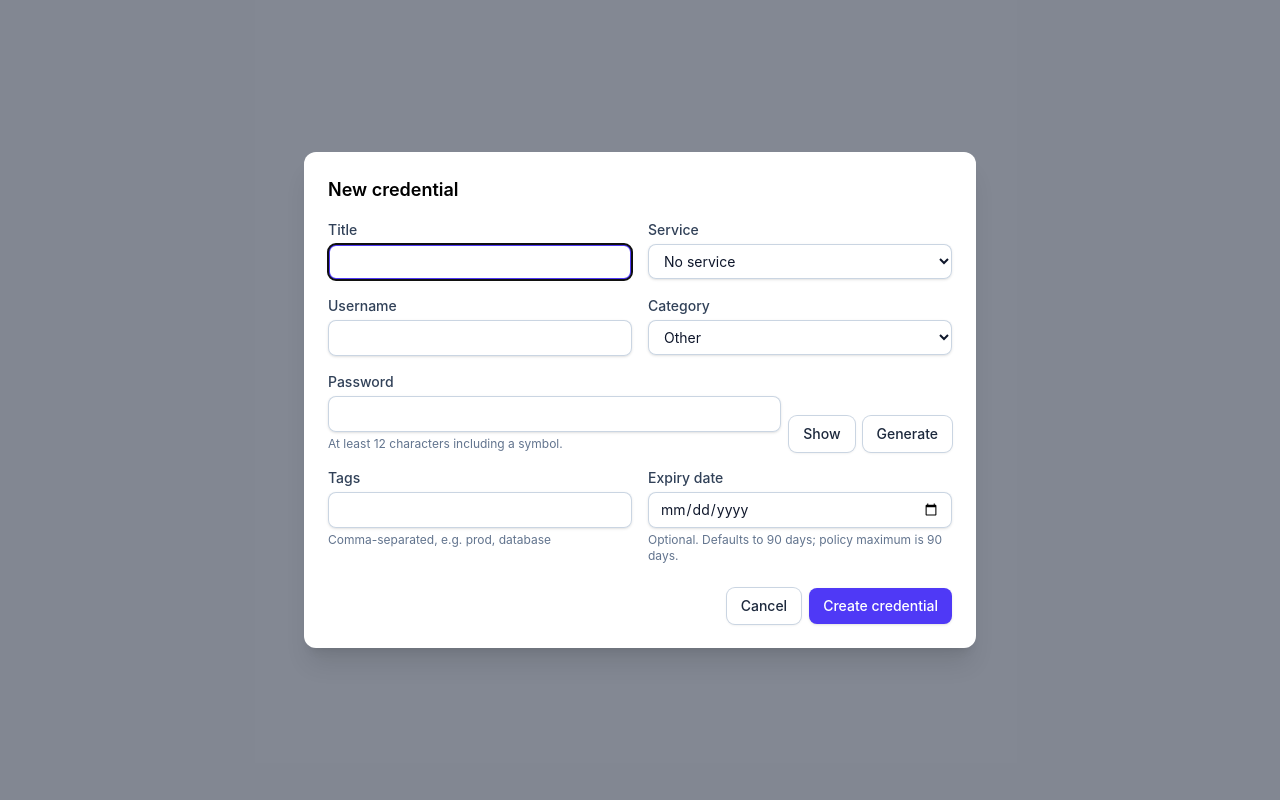
Test case: CredentialFormModal (create) › shows server-side field errors next to the fields and keeps the form open
The image size is (1280, 800).
Type "x" into the field labelled "Title" at (480, 262), box x1=328 y1=244 x2=632 y2=280
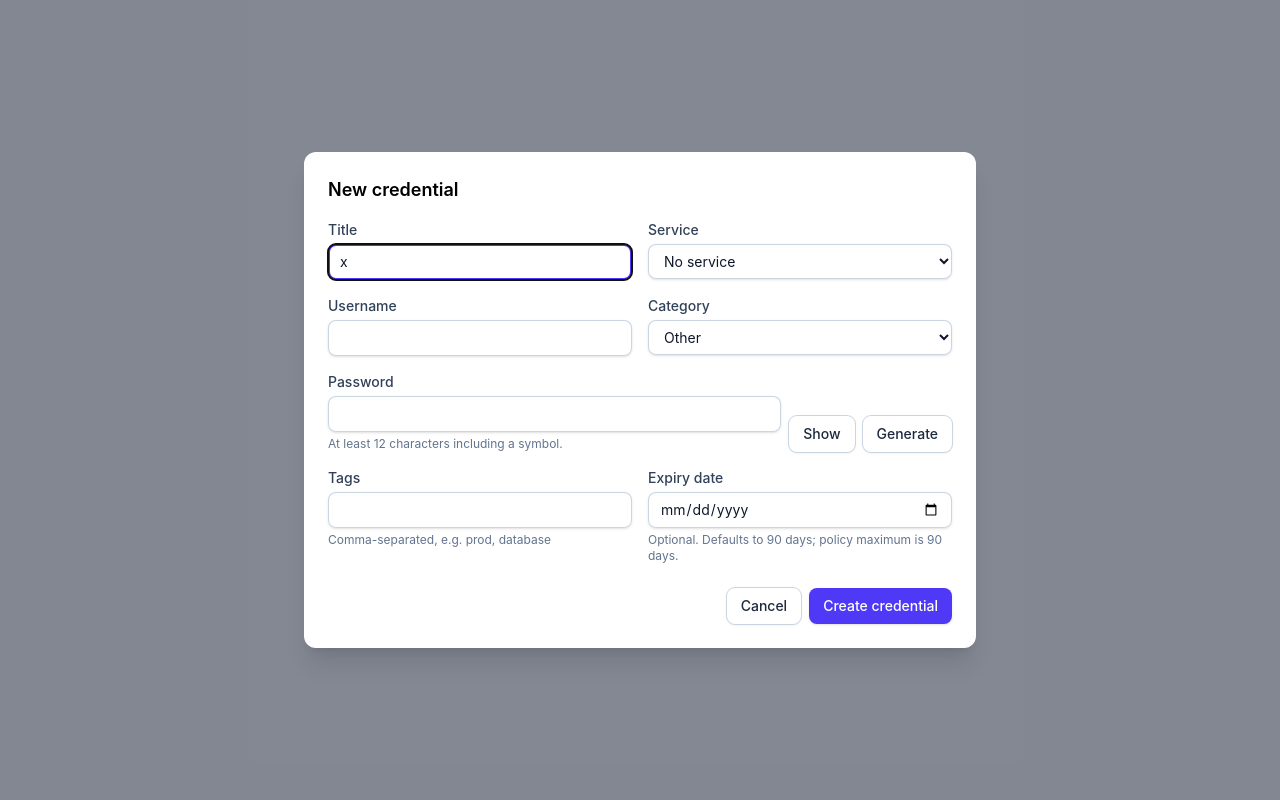
Type "short" into the password field labelled "Password" at (555, 414), box x1=328 y1=396 x2=781 y2=432
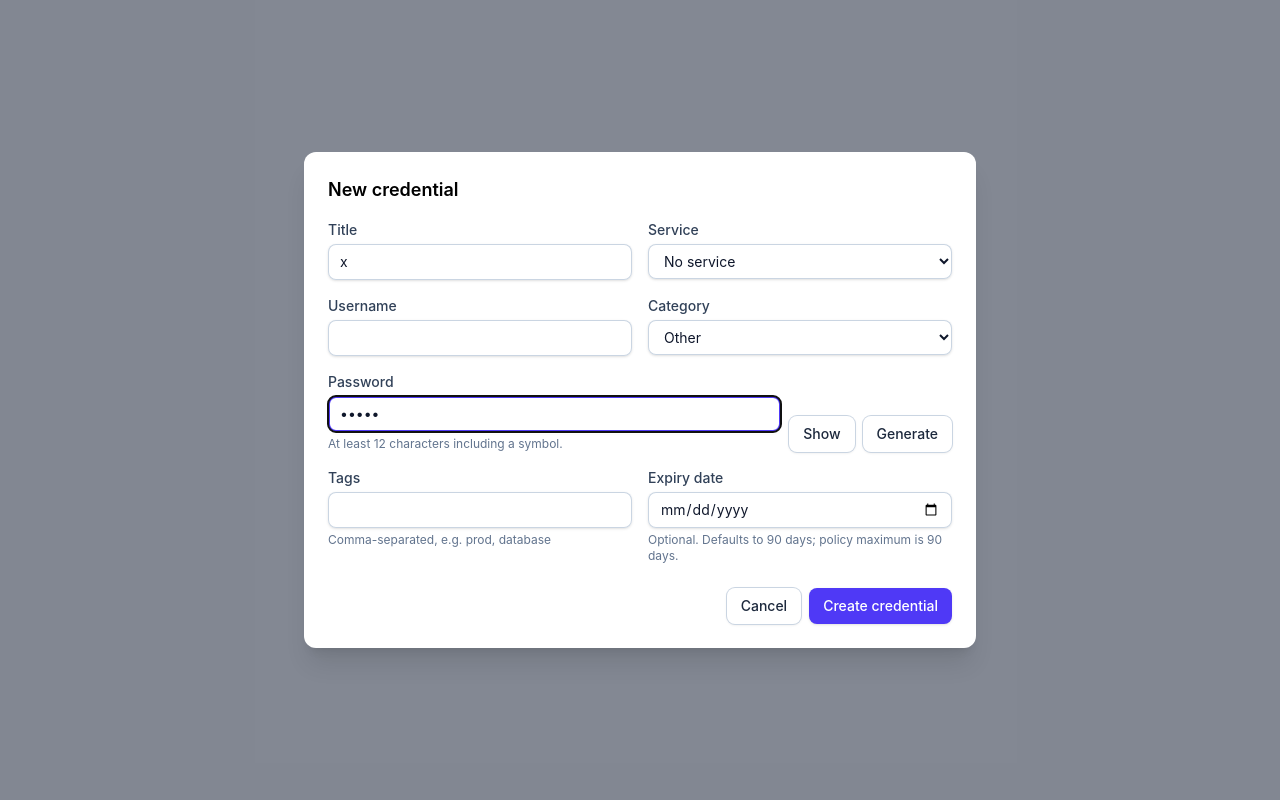
Click the button "Create credential" at (881, 606), box x1=809 y1=588 x2=952 y2=624
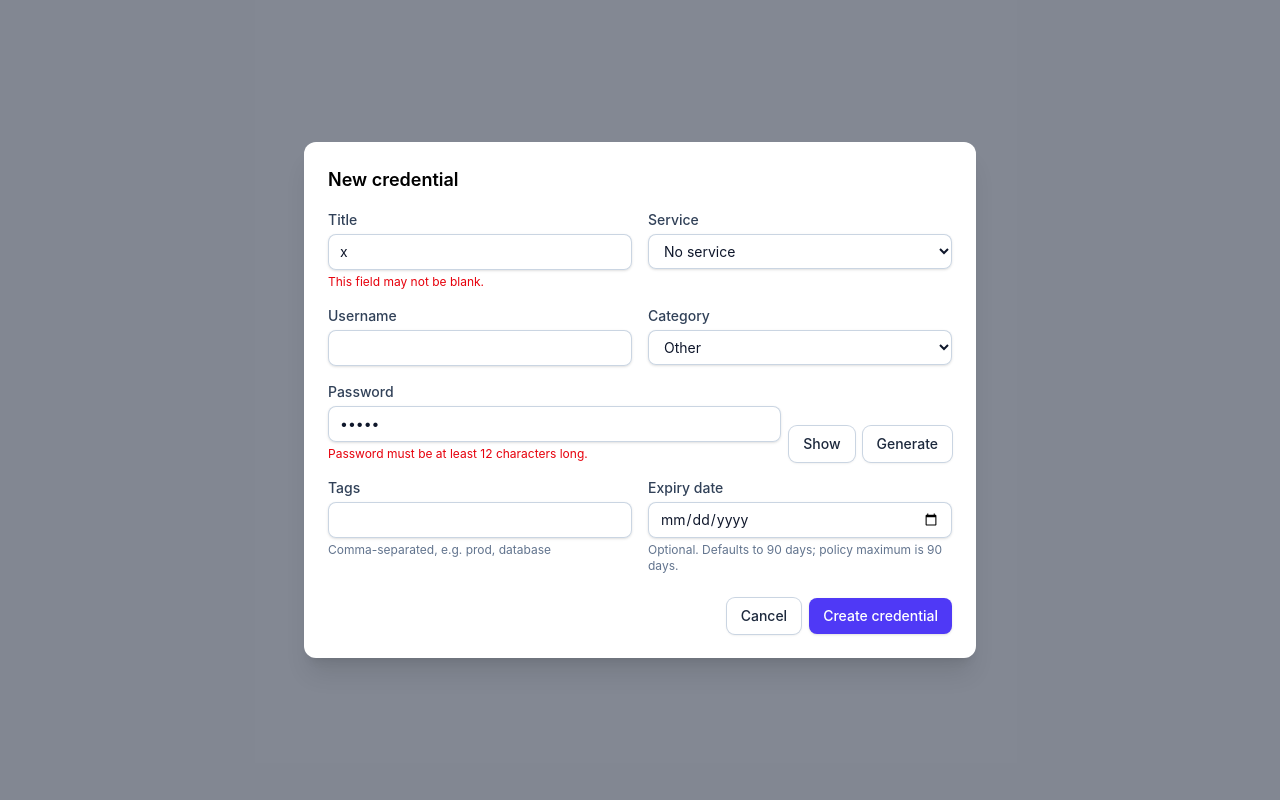
Now the text "Password must be at least 12 characters long." is shown, box x1=328 y1=446 x2=588 y2=461
Now the text "This field may not be blank." is shown, box x1=328 y1=274 x2=484 y2=289
